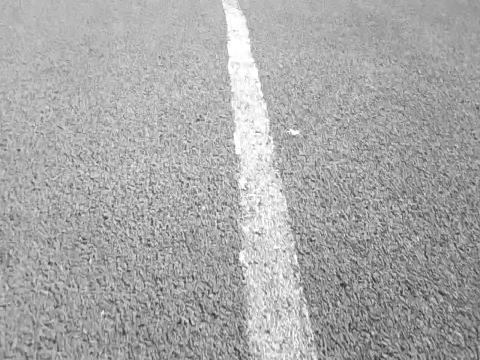Lines: (221, 0, 321, 360)
